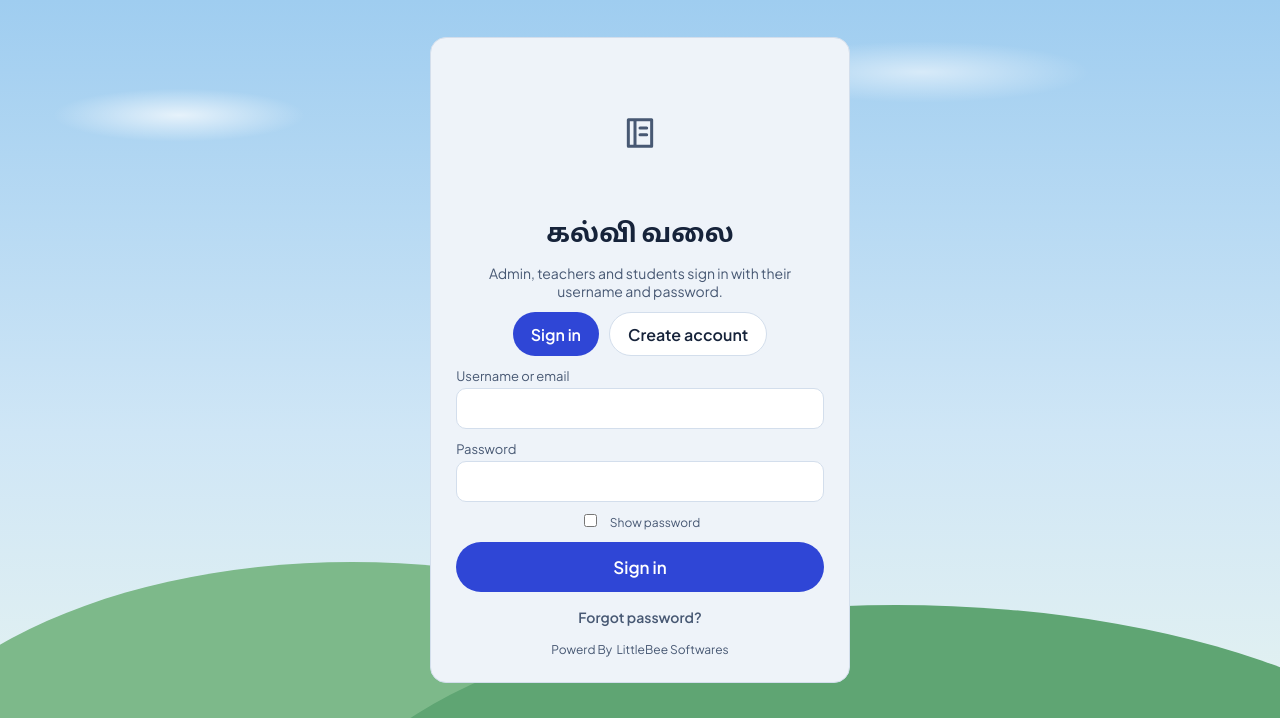
Test case: auth and save behaviour › previews a saved teacher photo after the username is entered
Step 1. Type "ravi" into the field labelled "Username or email" → x=640, y=408, box [456,388,824,429]
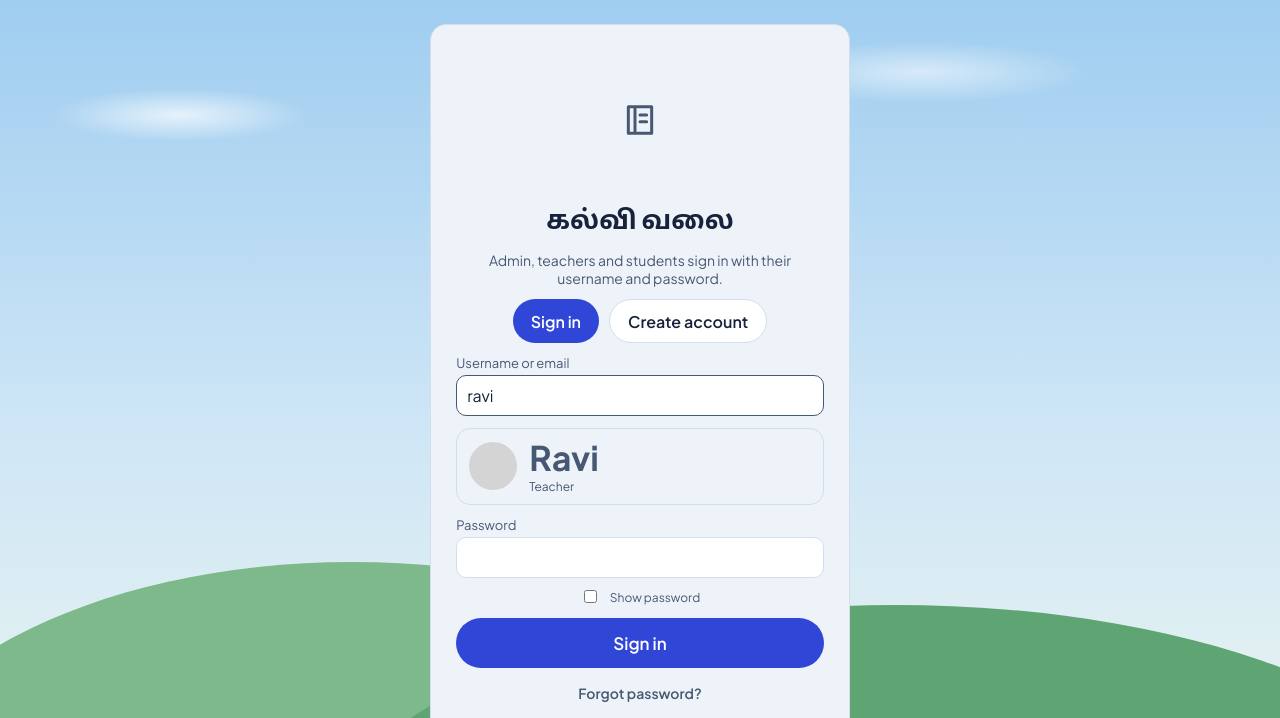
Check: the element with class "login-profile-preview" shows "Ravi", box [529,436,599,479]
Check: the element with class "login-profile-preview" shows "Teacher", box [529,479,574,494]
